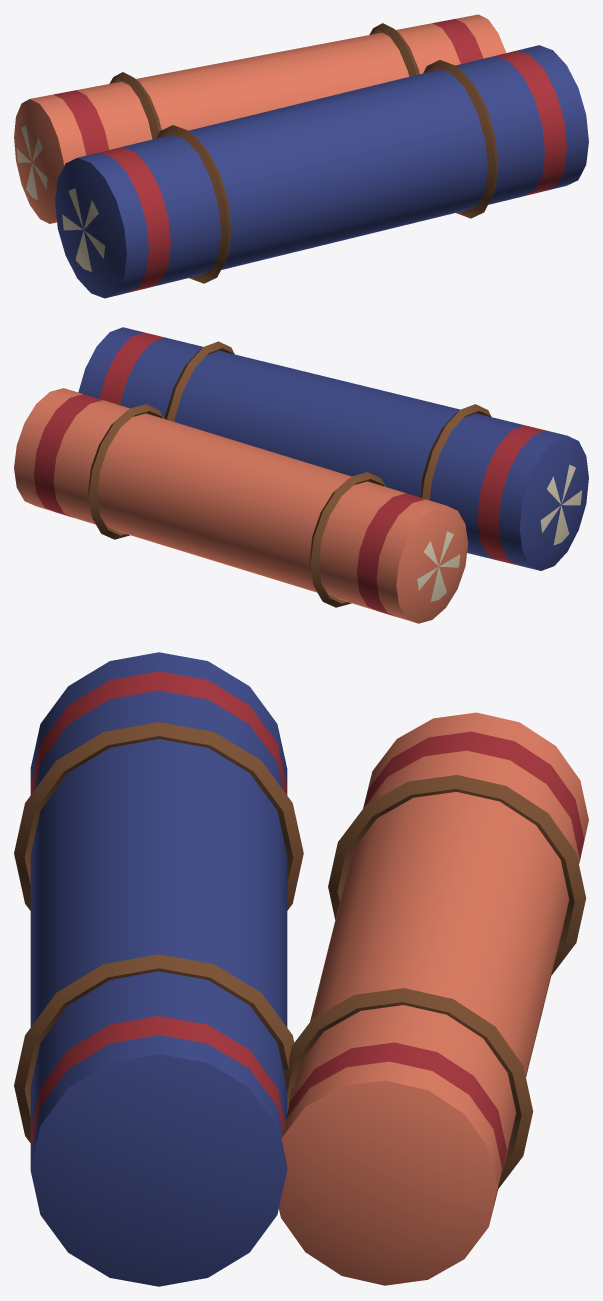
Rendered from deco_sleeping_mat_rolled.fbx.
3 views of the same model, one above another, from view 1: azimuth 30°, elevation 25°; view 2: azimuth 150°, elevation 25°; view 3: azimuth 270°, elevation 25° (orthographic). The views are drawn at different scales.
Parts seen in each view (by area): view 1: SleepingMat_Rolled_Roll, SleepingMat_Rolled_Roll2; view 2: SleepingMat_Rolled_Roll2, SleepingMat_Rolled_Roll; view 3: SleepingMat_Rolled_Roll, SleepingMat_Rolled_Roll2.
Boxes of the visible parts, x1,y1,x2,y2 form: SleepingMat_Rolled_Roll: (55, 45, 588, 298); SleepingMat_Rolled_Roll2: (14, 14, 506, 223); SleepingMat_Rolled_Roll2: (14, 388, 468, 623); SleepingMat_Rolled_Roll: (78, 327, 588, 570); SleepingMat_Rolled_Roll: (14, 652, 303, 1286); SleepingMat_Rolled_Roll2: (279, 712, 588, 1285).
Size of the model in its own units: 131 by 38.4 by 76.18.
